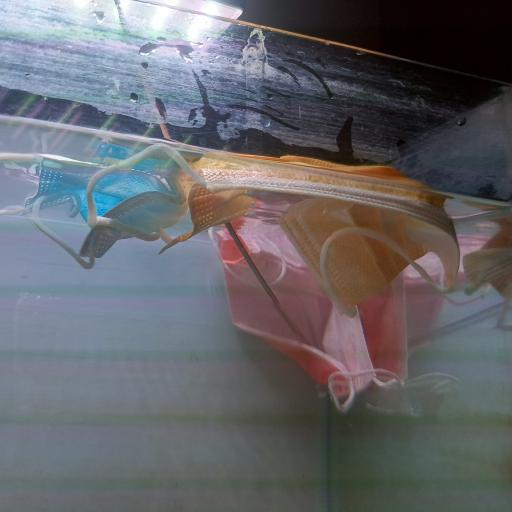mask: (88, 134, 463, 292), (226, 212, 436, 416), (2, 135, 182, 280), (456, 207, 512, 313)
